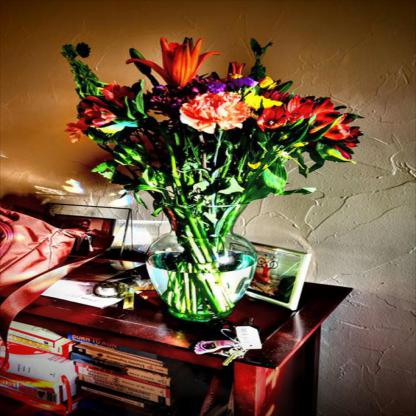vase: (146, 224, 258, 324)
